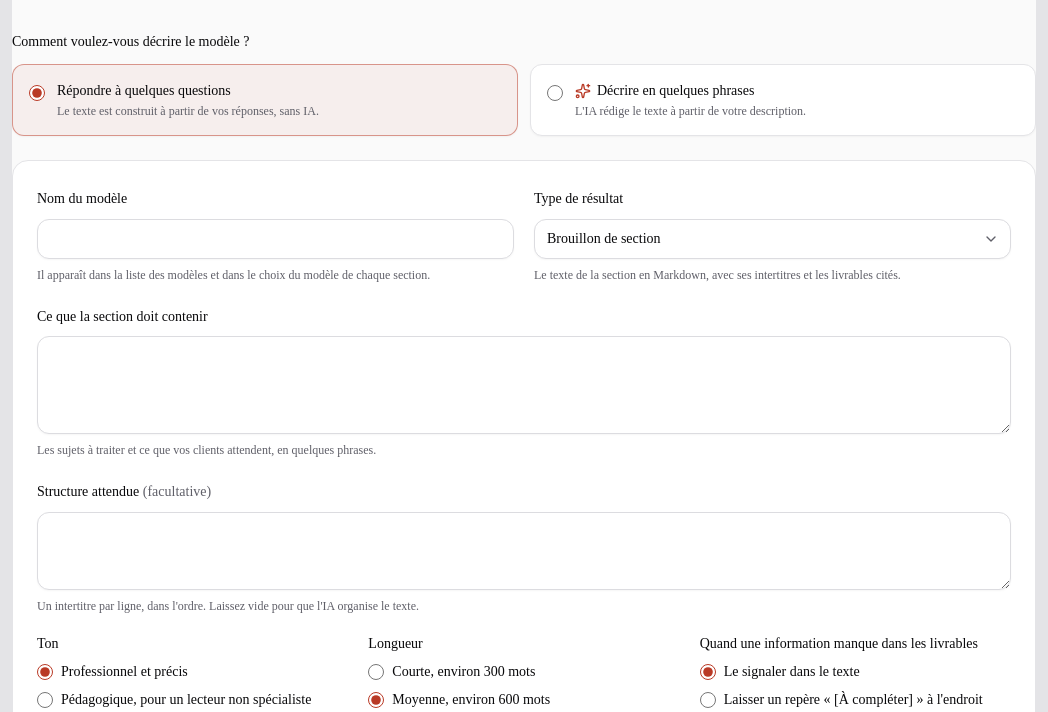
it: DescribeTemplate, from the form › goes back to the answers, which are kept
The width and height of the screenshot is (1048, 712).
Type "Note de cadrage" into the field labelled "Nom du modèle". click: (276, 239)
box: x1=37 y1=219 x2=514 y2=259
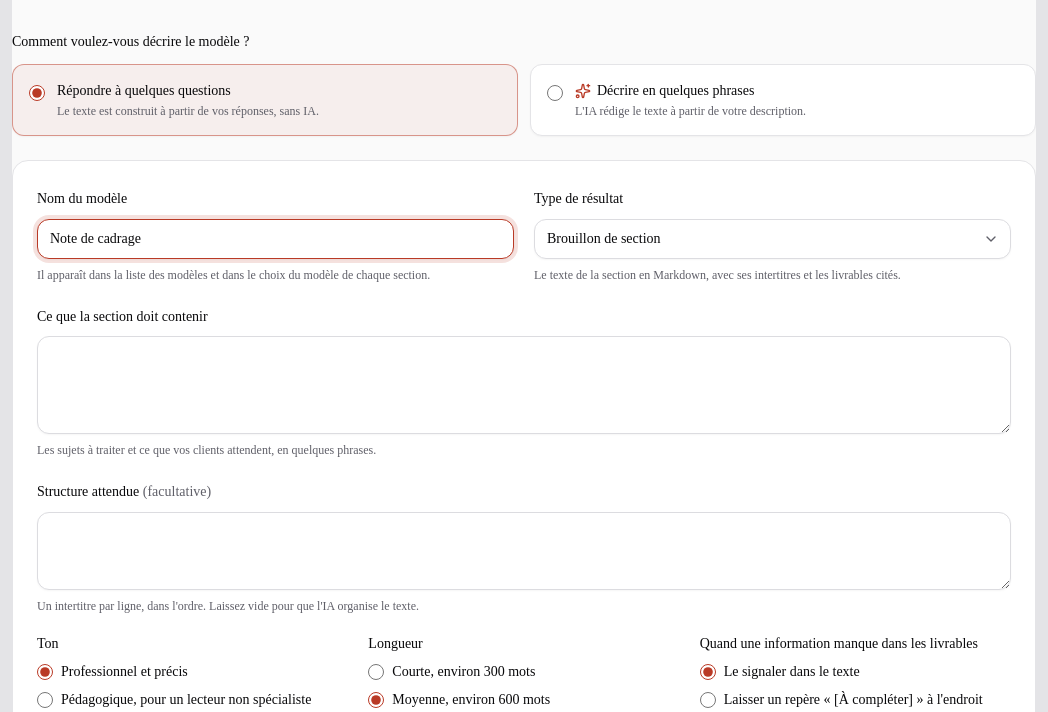
Type "Le périmètre de la mission." into the text box labelled "Ce que la section doit contenir". click: (524, 385)
box: x1=37 y1=336 x2=1011 y2=434
(page scrolled)
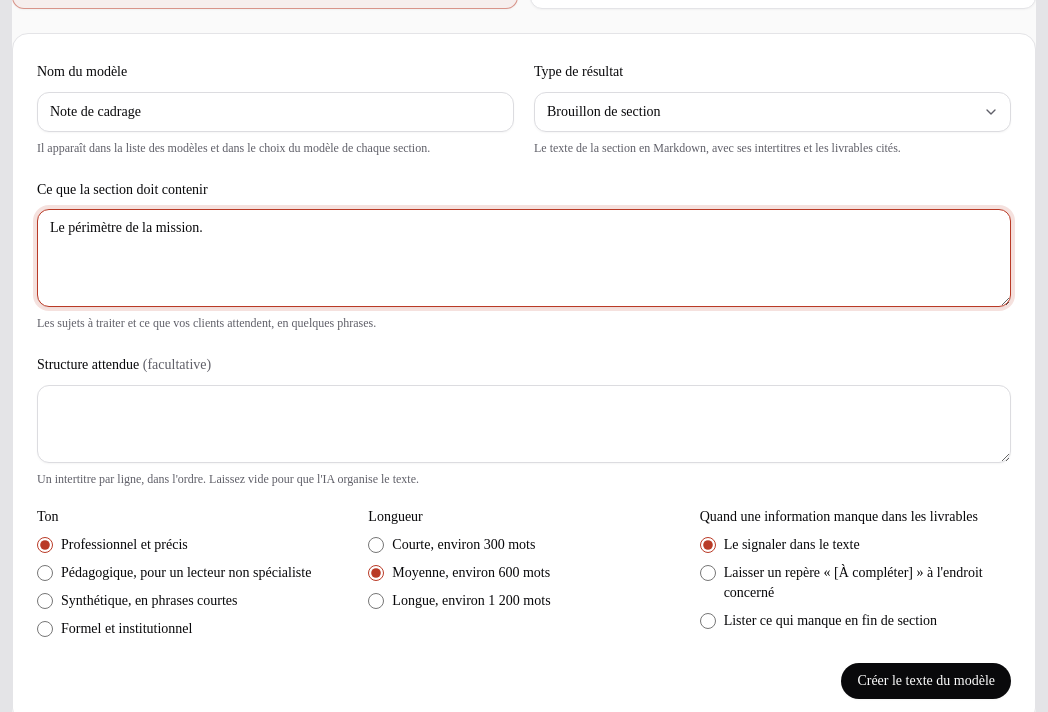
Click the button "Créer le texte du modèle". click: (926, 681)
box: x1=841 y1=663 x2=1011 y2=699
(page scrolled)
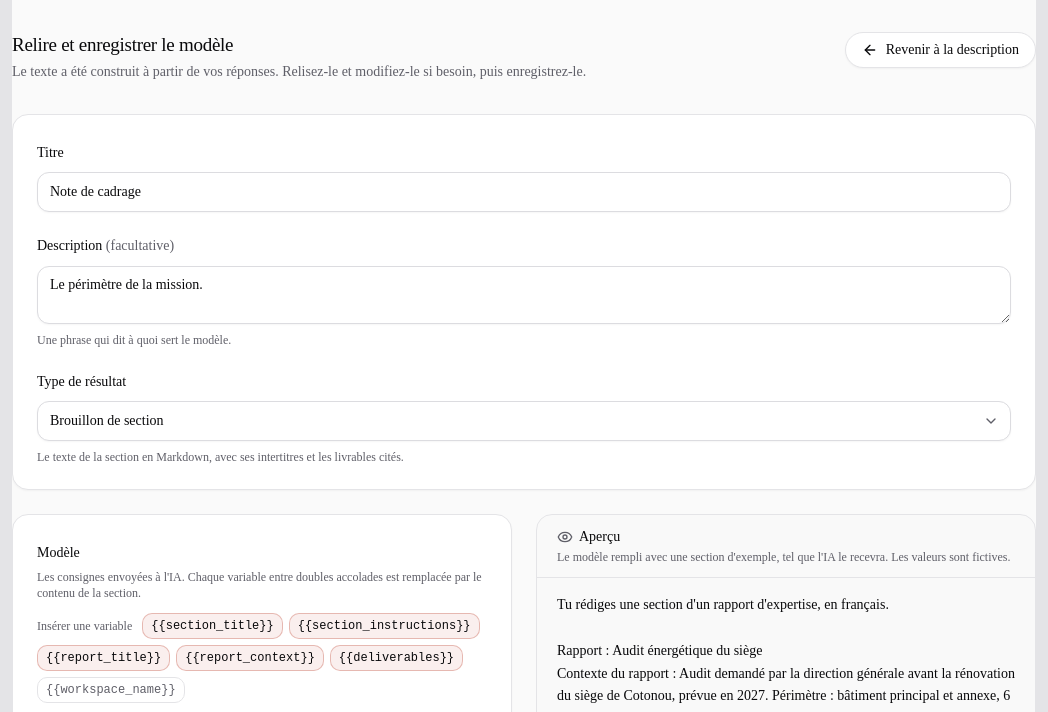
Click the button "Revenir à la description". click: (940, 50)
box: x1=845 y1=32 x2=1036 y2=68
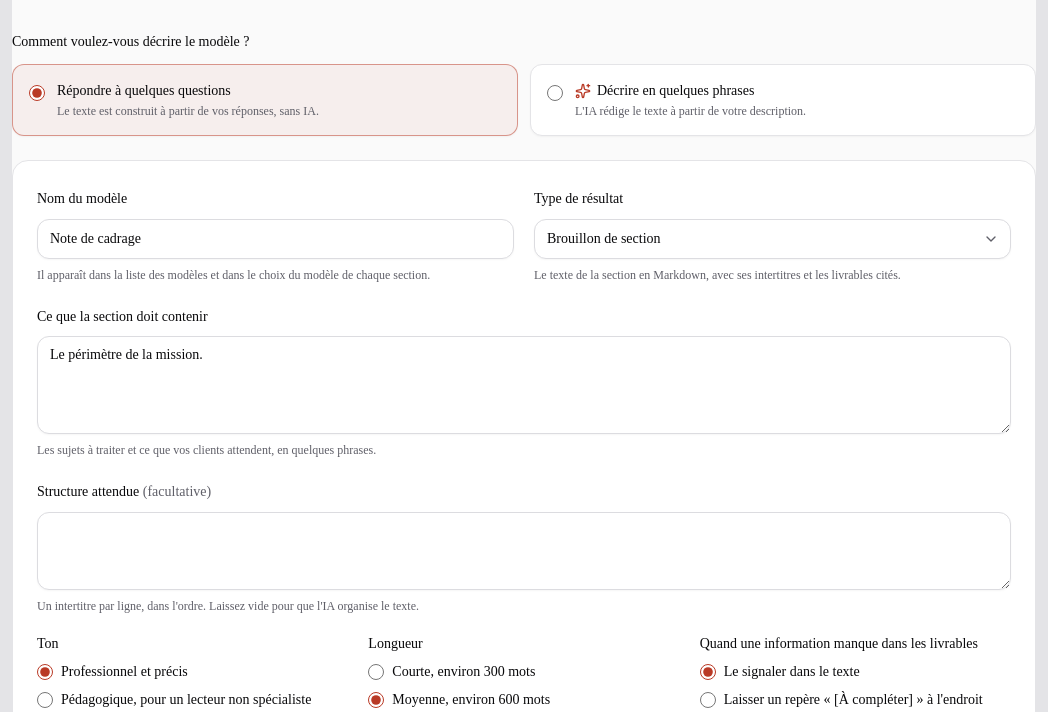
Now the field labelled "Nom du modèle" holds "Note de cadrage", box x1=37 y1=219 x2=514 y2=259
